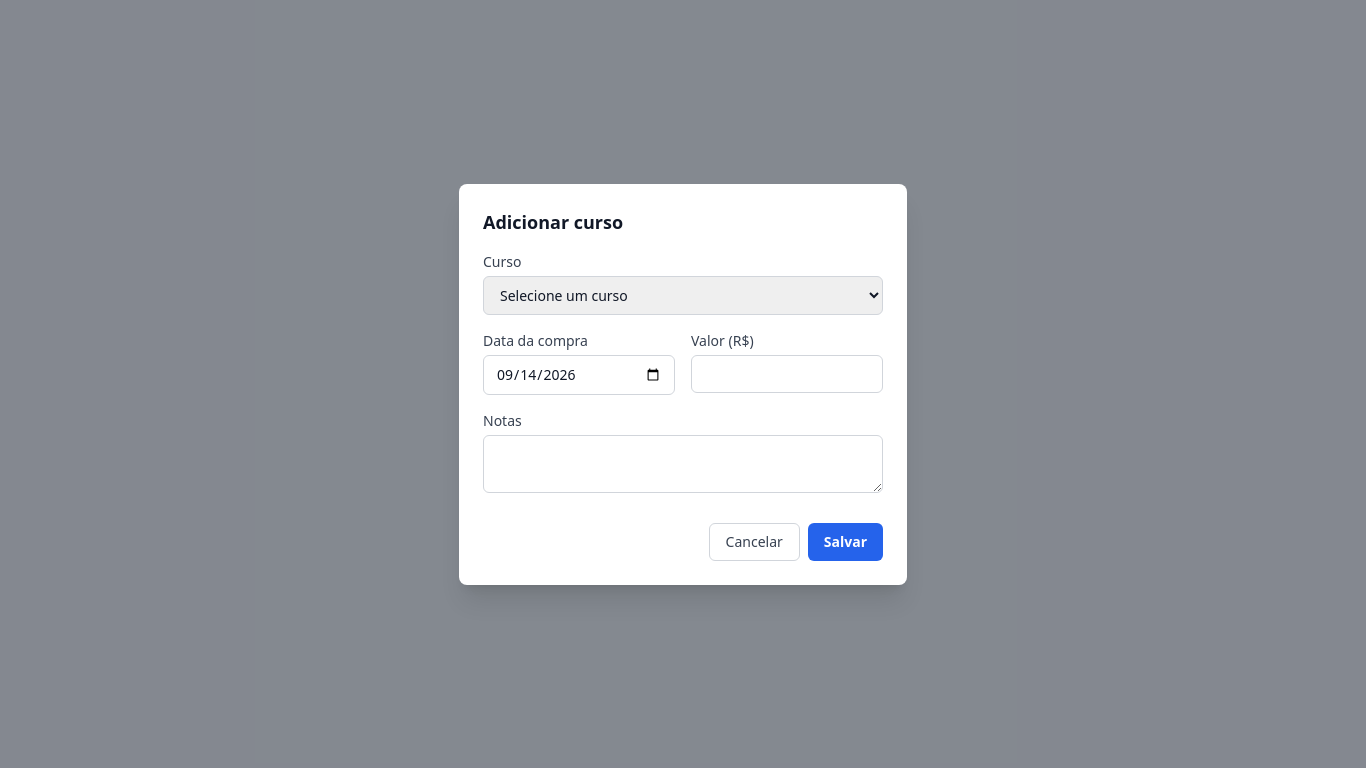
Test case: PurchaseFormModal › 409 de compra duplicada aparece no campo do curso
Step 1. Select "Delphi" in the dropdown labelled "Curso" → (683, 295), box [483,276,883,314]
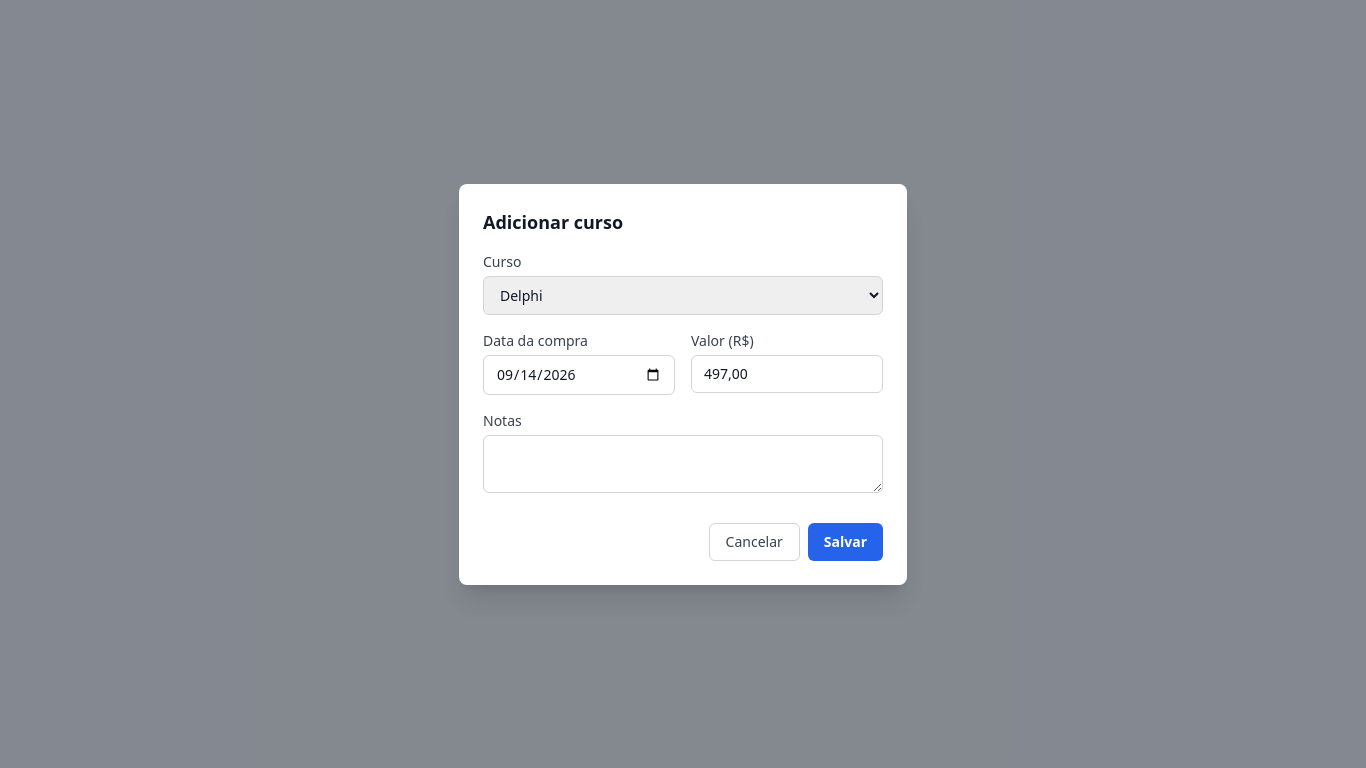
Step 2. Click the button "Salvar" → (845, 542), box [808,522,883,560]
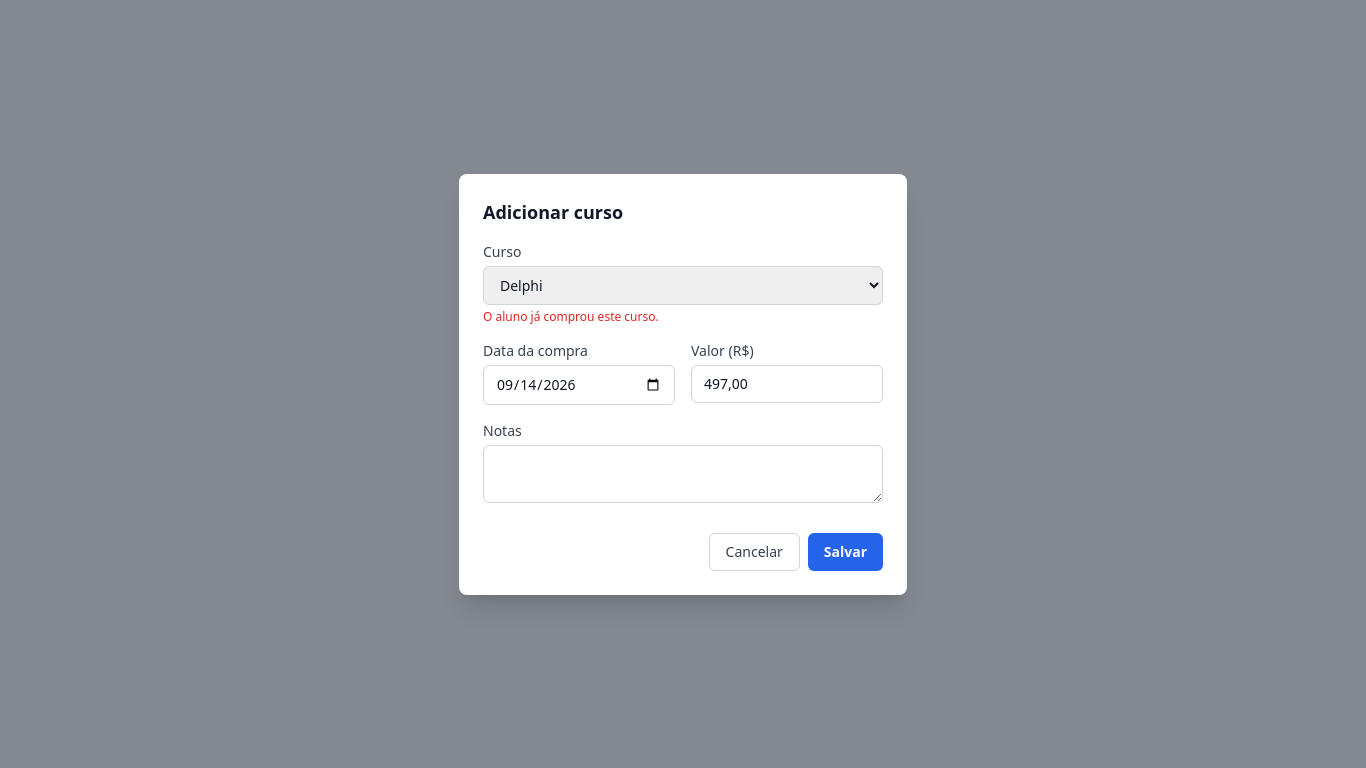
Now the text "O aluno já comprou este curso." is shown, box [483,308,659,324]
